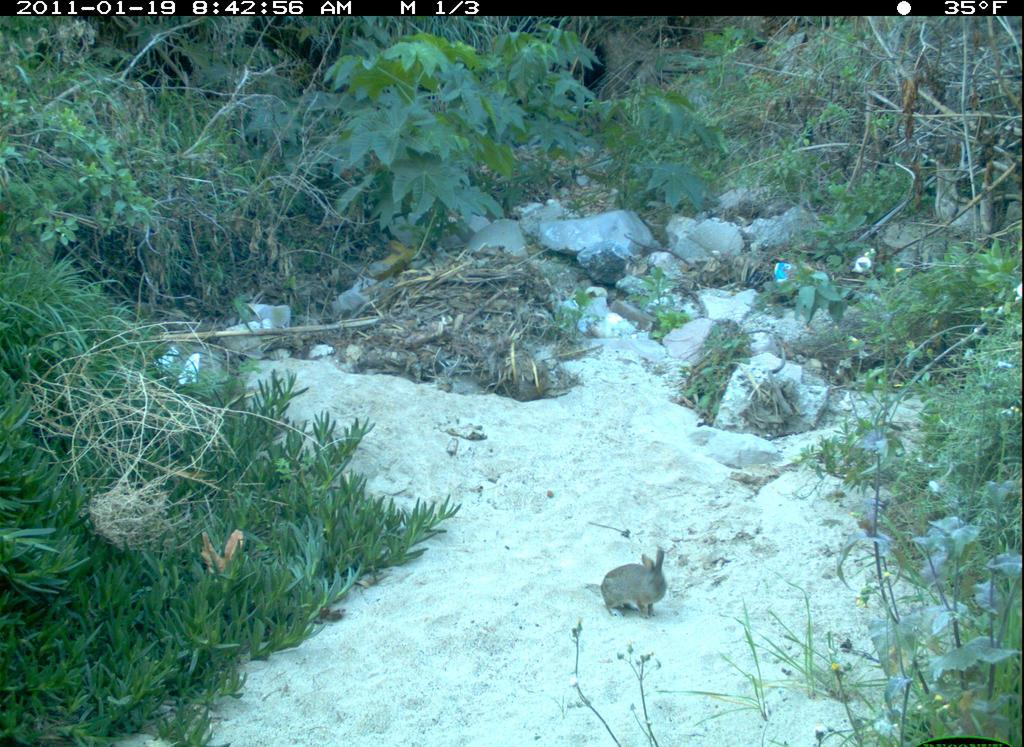rabbit: (596, 537, 675, 623)
